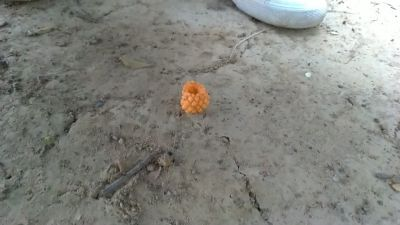eggs: (180, 81, 213, 115)
